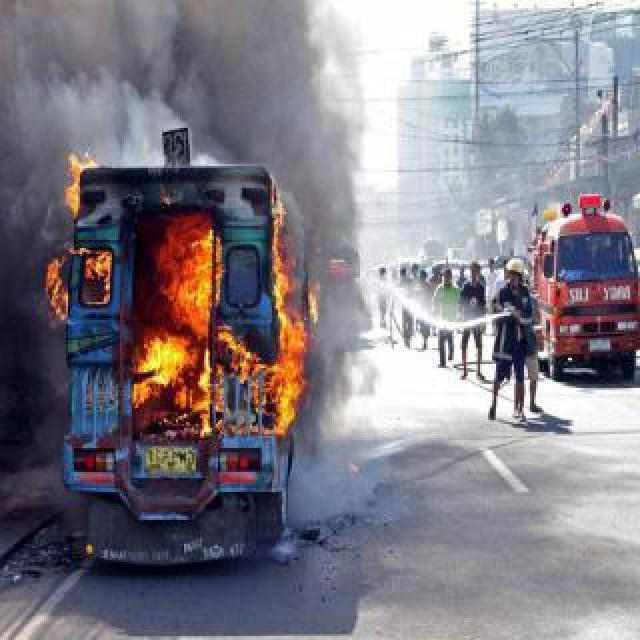Fire: (238, 212, 314, 434), (136, 328, 214, 434), (160, 216, 224, 328), (42, 236, 114, 328), (54, 142, 98, 228)
Smoke: (2, 2, 372, 170), (302, 170, 374, 536), (2, 174, 50, 512)
